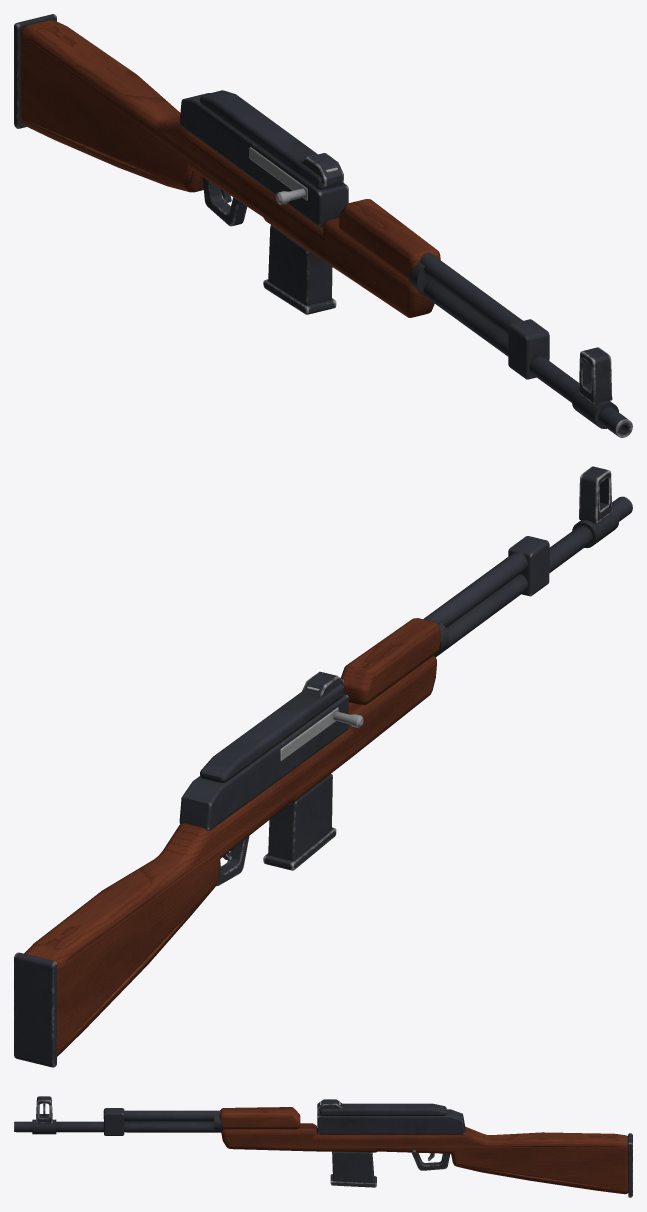
File: dmr_sks.glb
The picture shows the model from 3 angles, top to bottom: view 1: azimuth 30°, elevation 25°; view 2: azimuth 150°, elevation 25°; view 3: azimuth 270°, elevation 25°; orthographic projection. The views are drawn at different scales.
Parts seen in each view (by area): view 1: body, mag_mesh, bolt_mesh; view 2: body, mag_mesh, bolt_mesh; view 3: body, mag_mesh.
Boxes of the visible parts, left/top/right/bottom form: body: left=14, top=14, right=632, bottom=437; mag_mesh: left=263, top=225, right=336, bottom=314; bolt_mesh: left=249, top=147, right=307, bottom=204; body: left=14, top=466, right=632, bottom=1067; mag_mesh: left=263, top=774, right=336, bottom=870; bolt_mesh: left=280, top=707, right=363, bottom=761; body: left=14, top=1096, right=632, bottom=1197; mag_mesh: left=330, top=1151, right=376, bottom=1187.
Bounding box in the file's own units: 0.062 × 0.172 × 1.02.
1 material, 1 textured.
